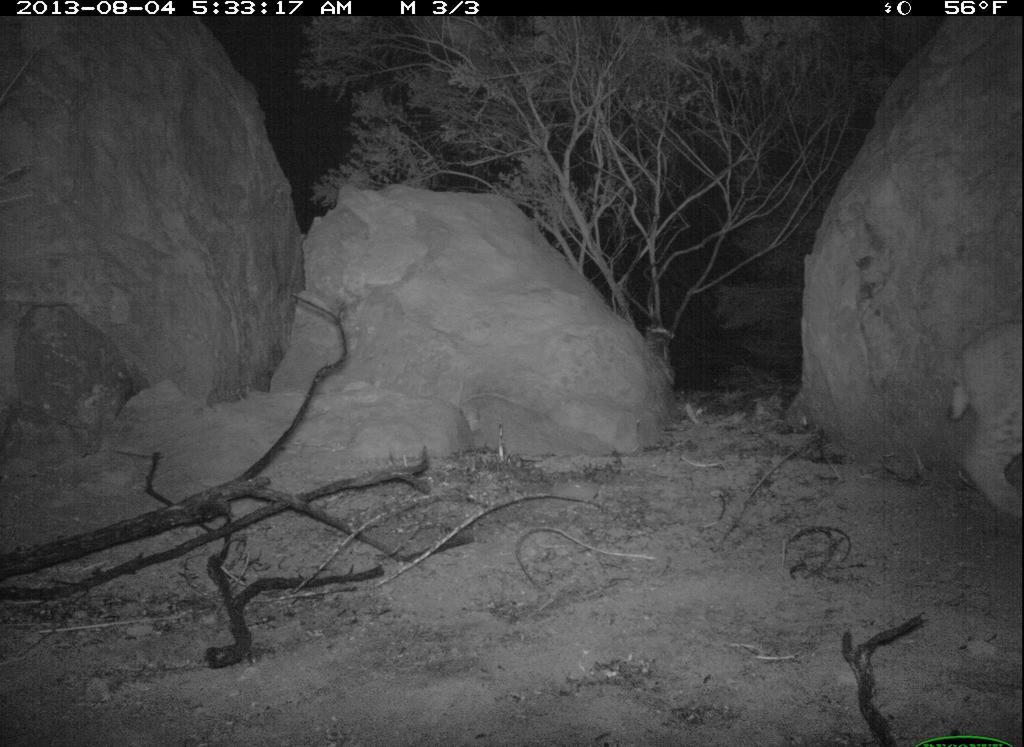bobcat: (902, 309, 1023, 538)
